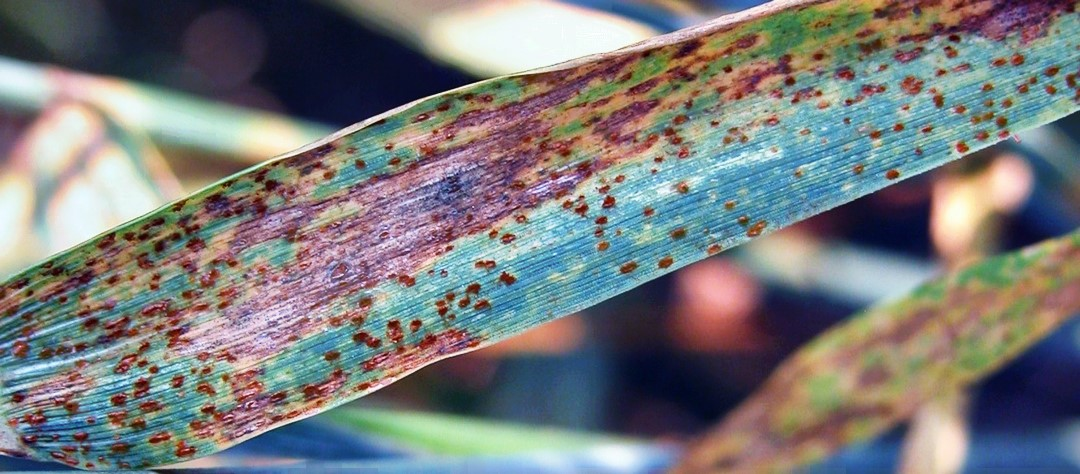Leaf Rust: (115, 13, 927, 444)
